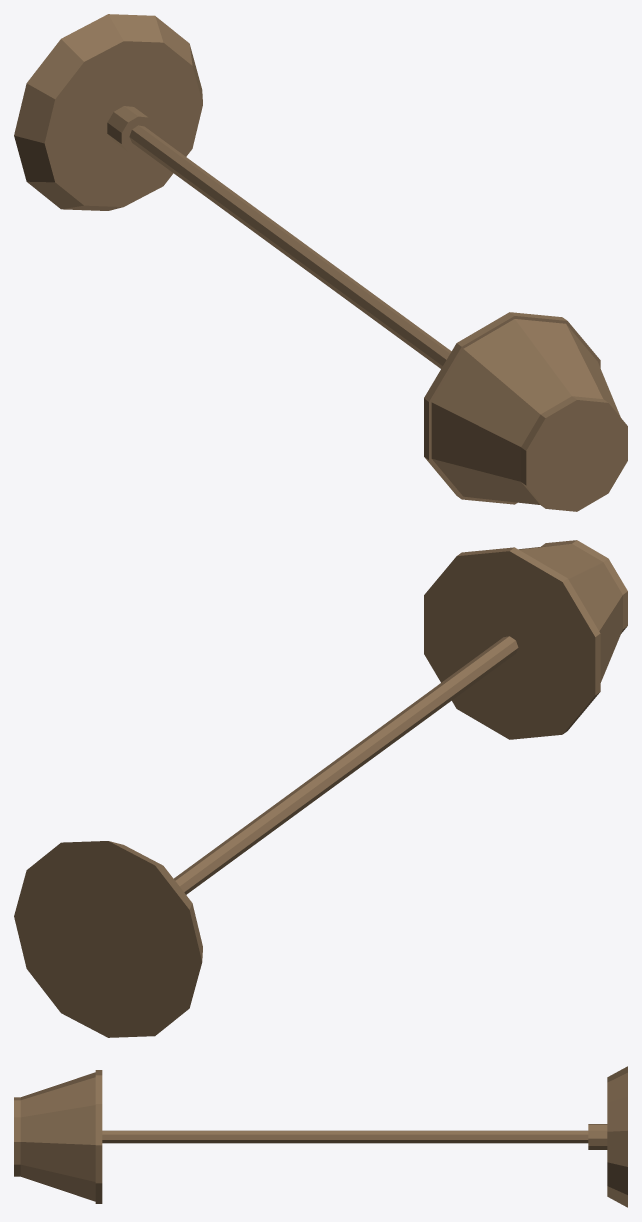
File: floor_lamp_white.obj
3 renders of one model, top to bottom at view 1: azimuth 30°, elevation 25°; view 2: azimuth 150°, elevation 25°; view 3: azimuth 270°, elevation 25°, orthographic. The views are drawn at different scales.
Parts seen in each view (by area): view 1: floor_lamp_white; view 2: floor_lamp_white; view 3: floor_lamp_white.
Part boxes in pixels (<box>): floor_lamp_white: <box>14,14,627,511</box>; floor_lamp_white: <box>14,540,627,1037</box>; floor_lamp_white: <box>14,1066,627,1207</box>.
Bounding box in the file's own units: 0.38 × 0.38 × 1.64.
1 material, 1 textured.
